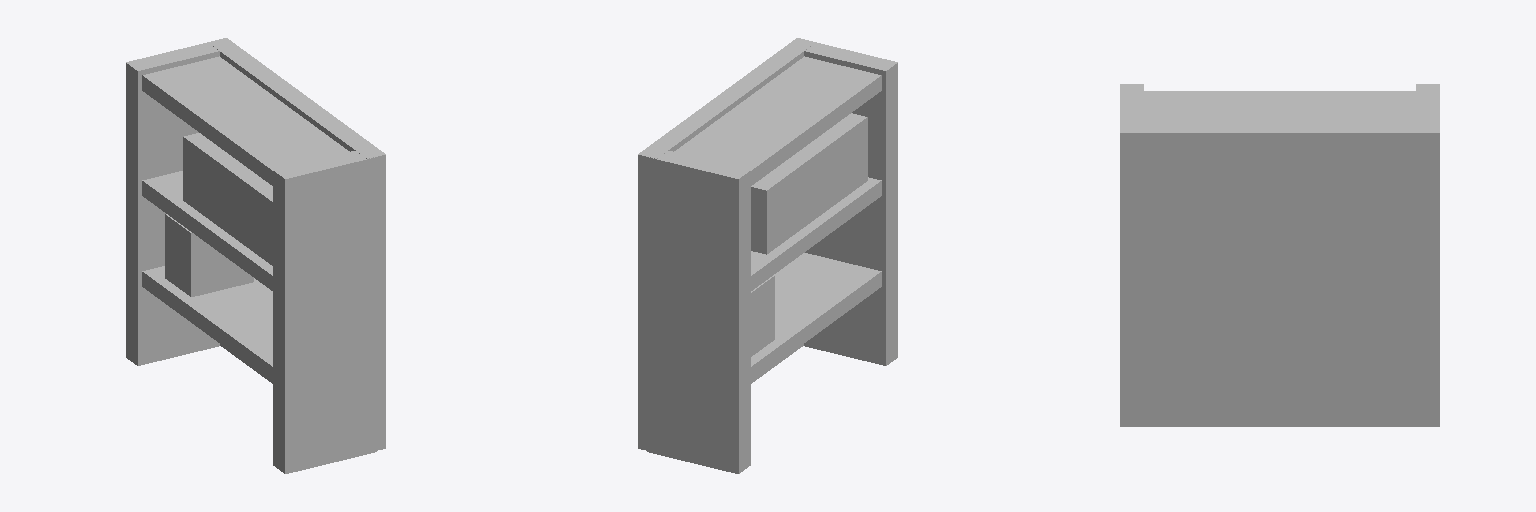
The model's file is library shelf.obj.
3 views of the same model, side by side, from view 1: azimuth 30°, elevation 25°; view 2: azimuth 150°, elevation 25°; view 3: azimuth 270°, elevation 25° (orthographic).
Parts seen in each view (by area): view 1: Cube, Cube.001, Cube.005_Cube.006, Cube.007_Cube.008, Cube.002, Cube.006_Cube.007, Cube.009_Cube.010, Cube.003_Cube.005; view 2: Cube.001, Cube, Cube.005_Cube.006, Cube.007_Cube.008, Cube.002, Cube.006_Cube.007, Cube.003_Cube.005, Cube.009_Cube.010; view 3: Cube.006_Cube.007, Cube.005_Cube.006, Cube, Cube.001.
Part boxes in pixels (x1,y1,x2,y2): Cube: (273,151,376,473); Cube.001: (126,42,219,365); Cube.005_Cube.006: (142,56,349,185); Cube.007_Cube.008: (183,133,272,265); Cube.002: (142,266,272,381); Cube.006_Cube.007: (208,38,385,450); Cube.009_Cube.010: (165,214,253,296); Cube.003_Cube.005: (142,171,272,290); Cube.001: (647,151,750,473); Cube: (804,42,897,365); Cube.005_Cube.006: (674,56,881,185); Cube.007_Cube.008: (751,113,867,254); Cube.002: (751,253,881,381); Cube.006_Cube.007: (638,38,815,450); Cube.003_Cube.005: (751,177,881,290); Cube.009_Cube.010: (751,275,774,356); Cube.006_Cube.007: (1120,124,1439,426); Cube.005_Cube.006: (1144,91,1415,123); Cube: (1120,84,1143,123); Cube.001: (1416,84,1439,123).
Size of the model in its own units: 2.21 by 6.18 by 6.06.